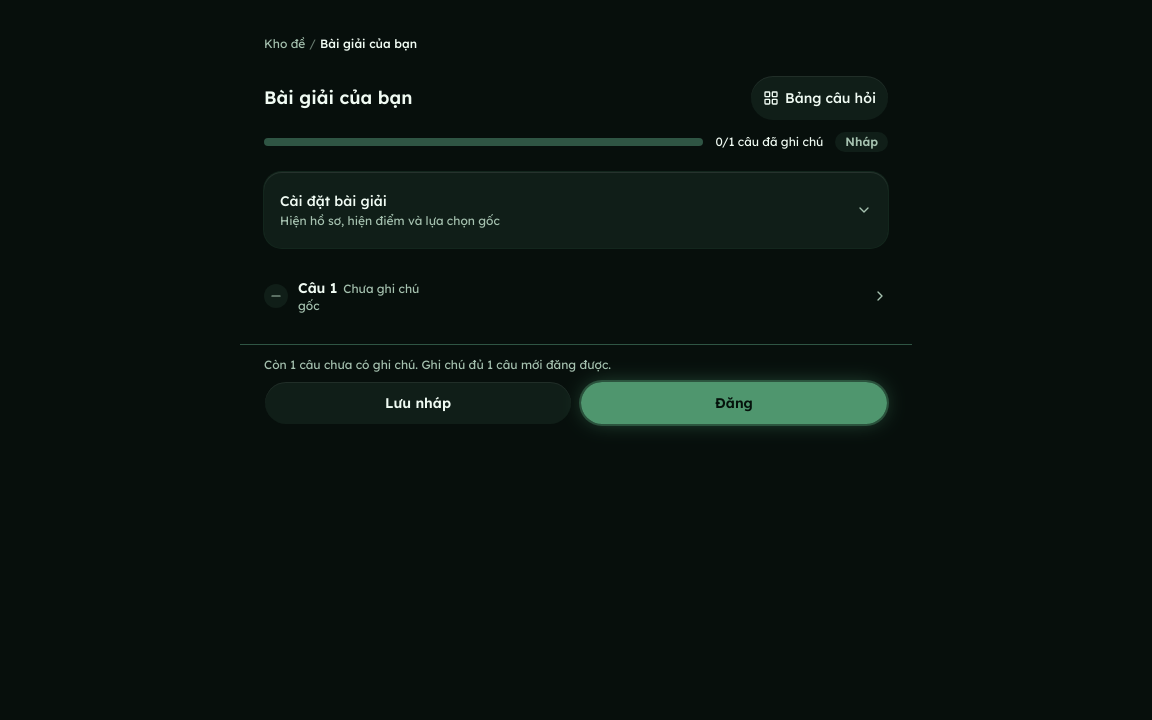
Scenario: SolutionEditorScreen — NoteSheet, DD-U5 dirty-close (Required Test #4, Reference Contract #24) › Lưu hỏng (generic) trên hộp thoại: hộp thoại vẫn mở, error đúng chữ, textarea không đổi
This screenshot has width=1152, height=720.
Click the button with aria-label "Câu 1," at (318, 288), box [264,268,888,324]
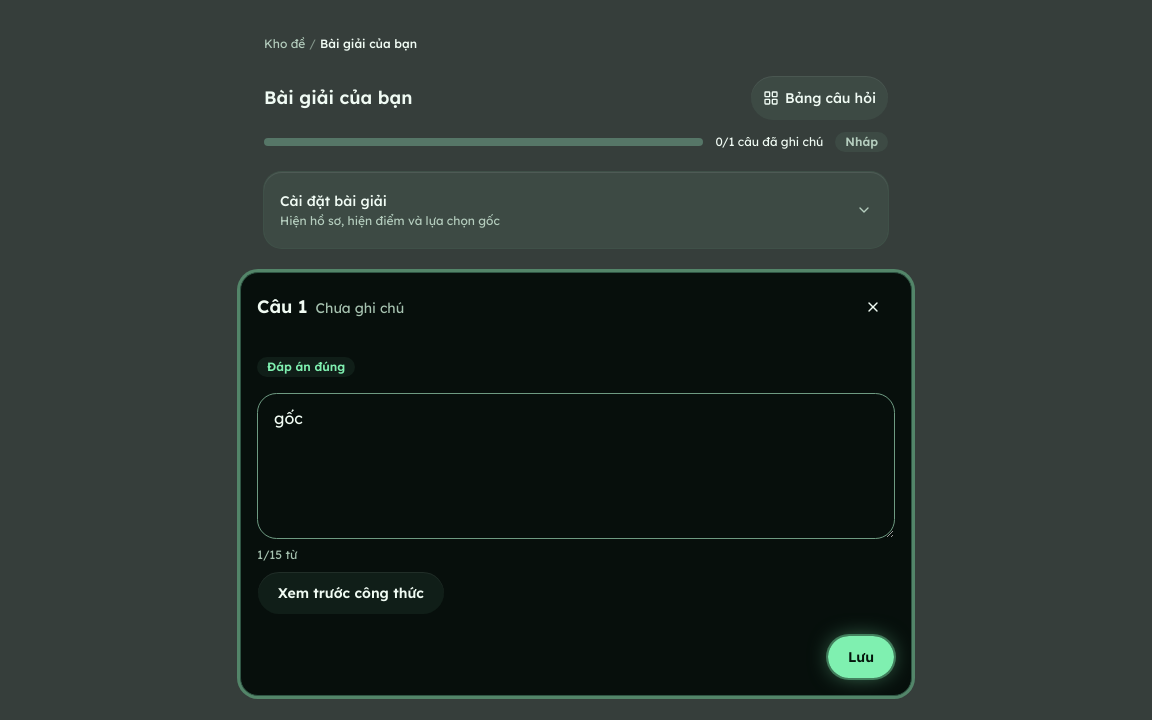
Replace the text in the text box with "gốc đã sửa" at (576, 466), box [257,393,895,539]
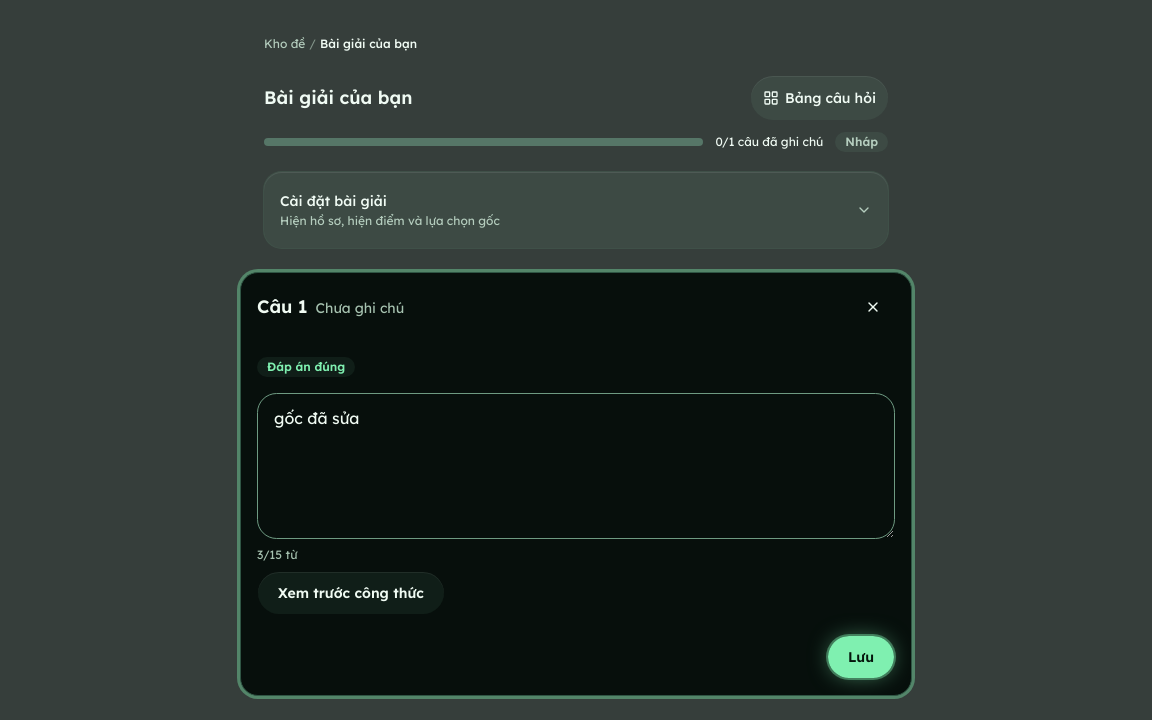
Click the button named "Đóng" at (873, 307), box [851,285,895,329]
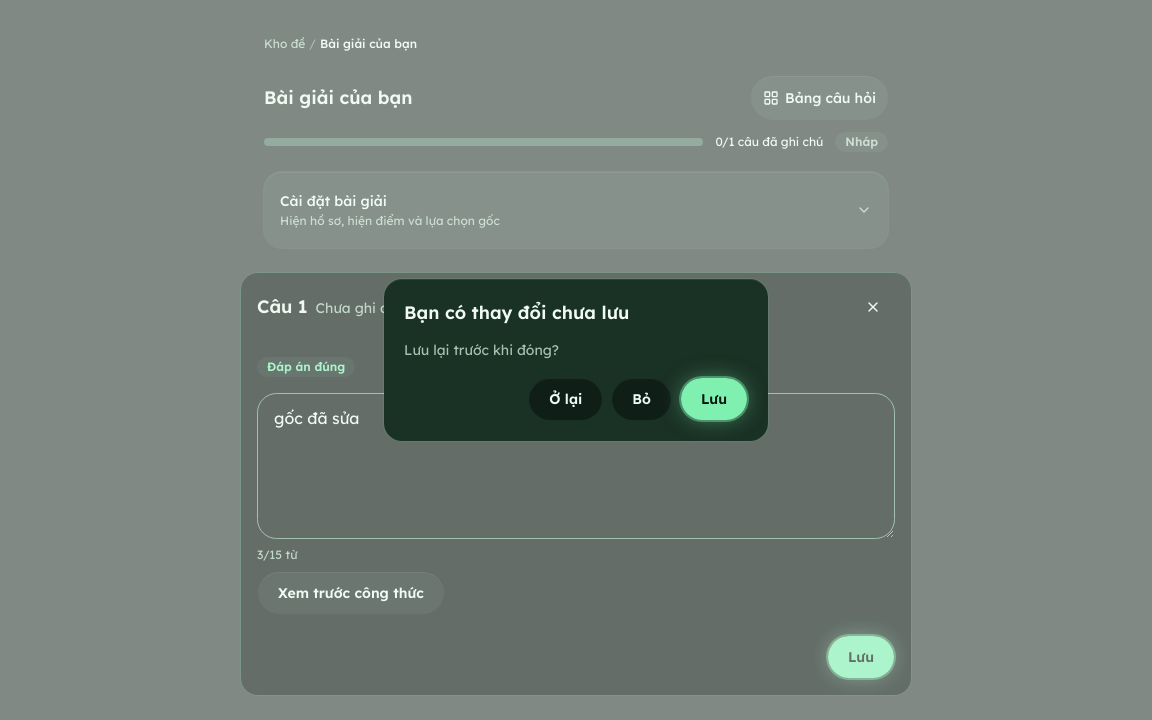
Click the button "Lưu" at (714, 399), box [680,377,748,421]
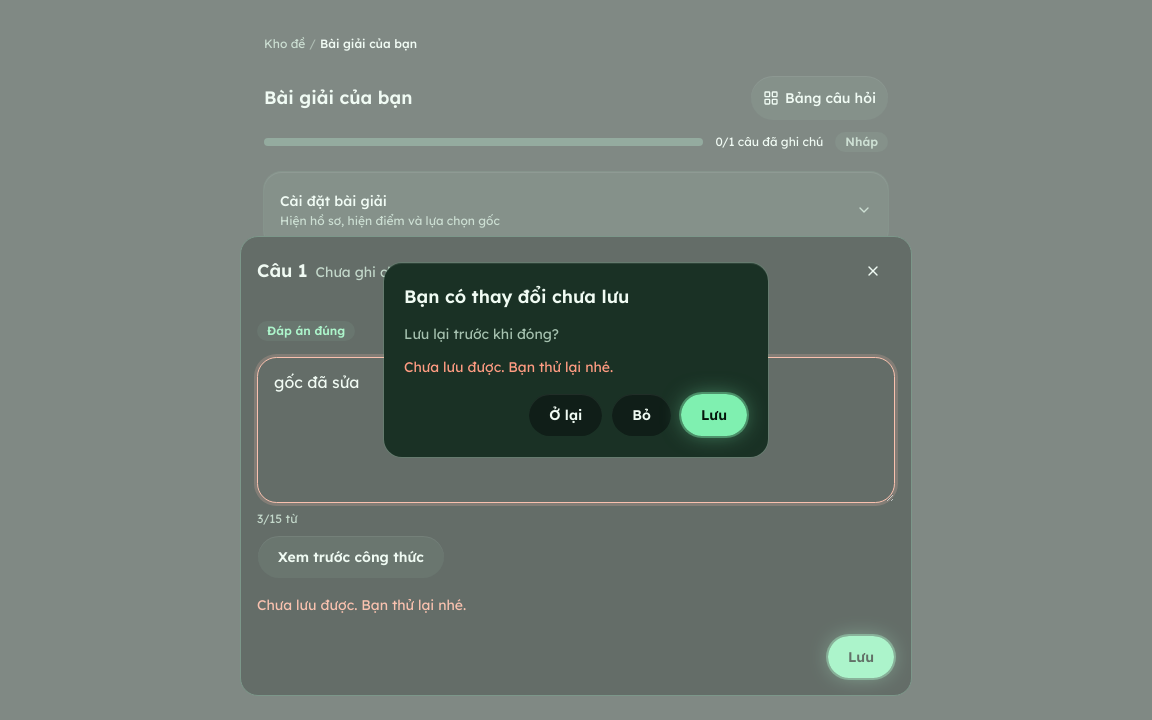
Expected: the dialog "Bạn có thay đổi chưa lưu" is shown, [384,263,768,457]
Expected: the button "Lưu" is shown, [680,393,748,437]
Expected: the text "Chưa lưu được. Bạn thử lại nhé." is shown, [404,358,613,376]
